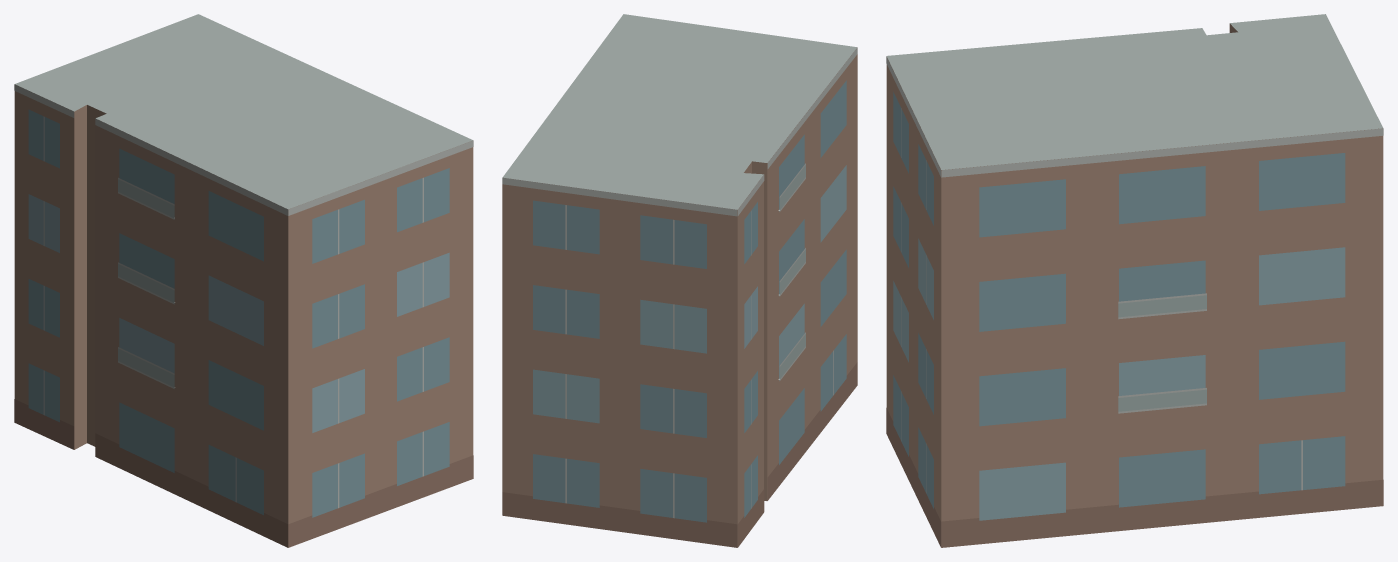
Rendered from survey-upis-33014235.glb.
3 renders of one model, left to right at view 1: azimuth 30°, elevation 25°; view 2: azimuth 150°, elevation 25°; view 3: azimuth 270°, elevation 25°, orthographic. The views are drawn at different scales.
Parts seen in each view (by area): view 1: survey-upis-33014235.tmp; view 2: survey-upis-33014235.tmp; view 3: survey-upis-33014235.tmp.
Boxes of the visible parts, <box> form: survey-upis-33014235.tmp: <box>14,14,473,547</box>; survey-upis-33014235.tmp: <box>502,14,857,547</box>; survey-upis-33014235.tmp: <box>886,14,1383,547</box>.
Bounding box in the file's own units: 10.96 × 12.35 × 14.74.
